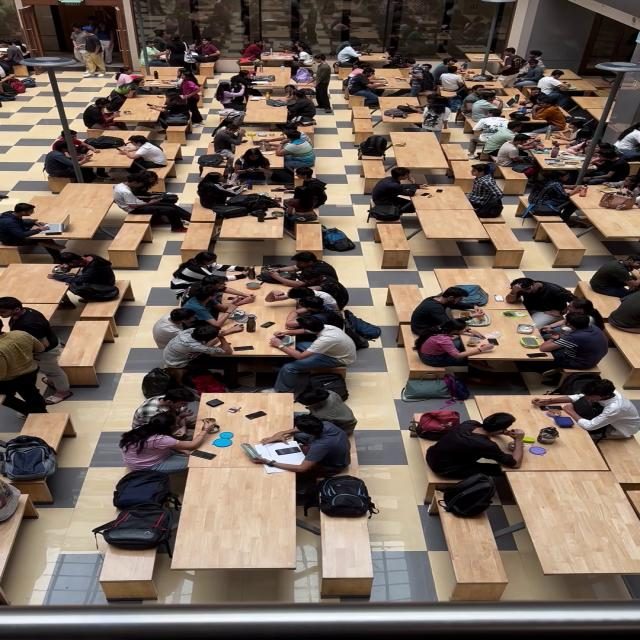Occupied: (428, 304, 598, 375), (476, 396, 616, 468), (193, 287, 323, 361), (184, 393, 298, 462), (0, 298, 69, 402), (160, 324, 257, 394), (530, 380, 640, 440), (266, 317, 356, 390), (424, 414, 522, 480), (255, 415, 353, 480), (118, 415, 214, 475), (222, 267, 288, 353), (266, 389, 358, 445), (414, 316, 498, 371), (112, 177, 189, 230), (505, 278, 576, 332), (410, 287, 483, 339), (130, 386, 204, 431), (526, 172, 590, 224), (181, 278, 254, 322), (292, 316, 356, 366), (170, 259, 254, 297), (110, 172, 181, 216), (271, 295, 342, 339), (78, 145, 155, 185), (265, 274, 344, 309), (47, 256, 116, 296), (2, 201, 74, 239), (0, 264, 68, 304), (159, 326, 234, 362), (371, 167, 423, 218), (534, 298, 597, 339), (523, 148, 603, 180), (30, 204, 116, 233), (196, 172, 254, 213), (265, 254, 341, 284), (265, 129, 317, 172), (43, 146, 97, 187), (280, 167, 328, 211), (104, 98, 162, 134), (153, 306, 202, 348), (493, 132, 543, 173), (117, 134, 169, 170), (146, 92, 192, 132), (412, 98, 452, 143), (406, 186, 476, 211), (580, 150, 630, 185), (175, 251, 228, 284), (593, 174, 639, 212), (591, 256, 639, 292), (272, 90, 316, 126), (288, 296, 344, 324), (525, 98, 568, 134), (176, 73, 204, 128), (347, 72, 386, 110), (83, 99, 126, 133), (212, 125, 249, 163), (535, 70, 574, 106), (284, 251, 340, 276), (244, 97, 292, 126), (560, 138, 606, 168), (233, 149, 271, 185), (157, 307, 201, 338), (310, 54, 333, 112), (246, 141, 290, 171), (52, 130, 96, 158), (128, 174, 170, 203), (180, 289, 222, 315), (548, 78, 608, 96), (230, 70, 263, 102), (612, 124, 640, 161), (550, 121, 591, 146), (434, 60, 475, 84), (216, 81, 247, 112), (457, 76, 505, 96), (114, 70, 144, 100), (279, 287, 335, 303), (212, 110, 245, 137), (2, 40, 27, 74), (497, 48, 524, 79), (193, 38, 221, 66), (284, 42, 315, 66), (144, 41, 168, 72), (244, 75, 283, 94), (337, 40, 367, 64), (381, 48, 414, 69), (257, 52, 295, 70), (239, 40, 267, 62), (159, 69, 187, 89)
Unoccupied: (505, 472, 640, 580), (181, 467, 294, 569), (437, 518, 512, 600), (320, 514, 373, 580), (55, 324, 113, 381), (433, 268, 515, 302), (388, 132, 451, 171), (214, 207, 284, 241), (594, 434, 640, 485), (604, 320, 639, 382), (416, 211, 486, 238), (19, 413, 73, 447), (107, 546, 156, 582), (576, 210, 640, 234), (568, 96, 616, 125), (178, 216, 218, 250), (108, 224, 150, 256), (540, 221, 582, 251), (386, 283, 418, 316), (441, 143, 474, 174), (374, 224, 411, 250), (359, 159, 387, 193), (483, 224, 519, 250), (294, 226, 323, 256), (347, 106, 379, 132), (379, 94, 422, 110), (542, 69, 586, 81), (199, 166, 225, 182)
